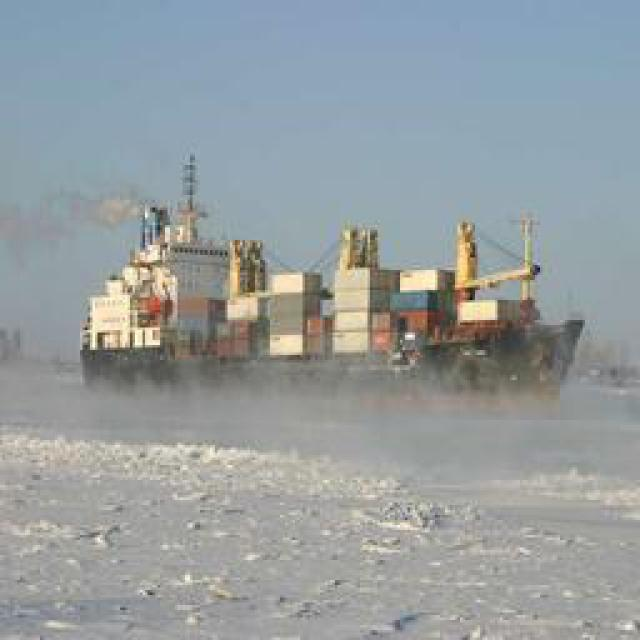Ship: (76, 174, 589, 387)
